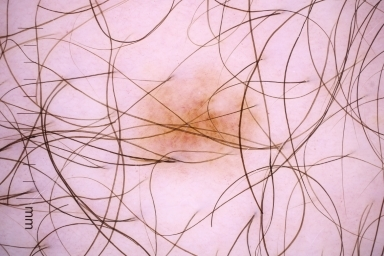nevus: (139, 79, 263, 172)
